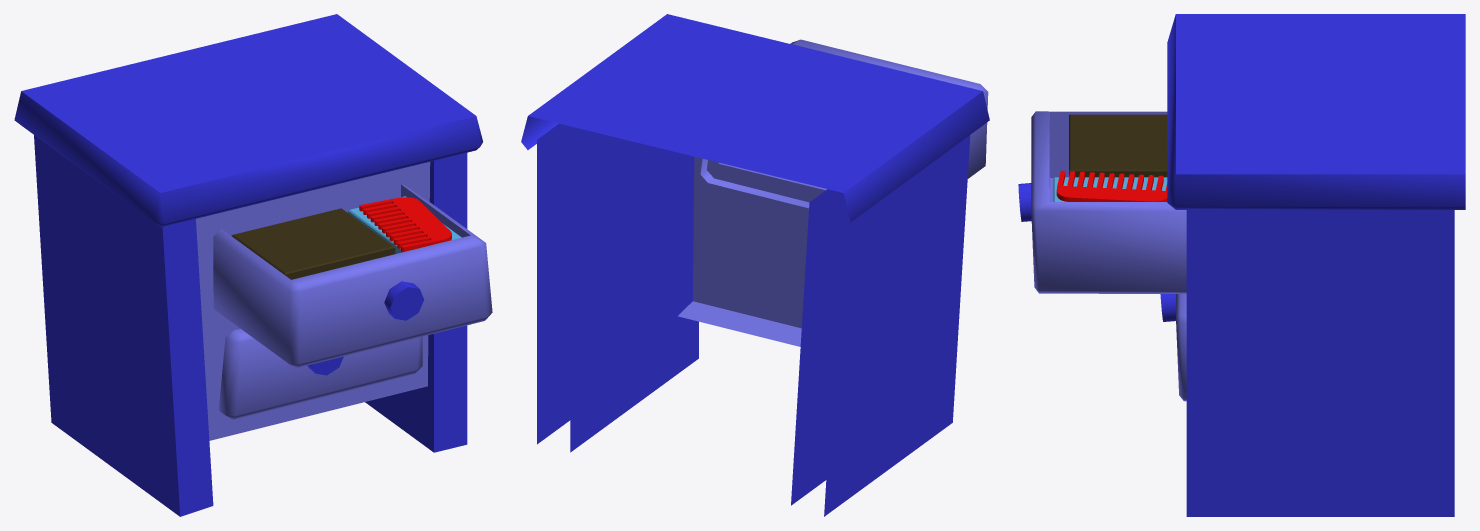
The model's file is BedsideTableOpen.FBX.
The picture shows the model from 3 angles, left to right: view 1: azimuth 30°, elevation 25°; view 2: azimuth 150°, elevation 25°; view 3: azimuth 270°, elevation 25°; orthographic projection. The views are drawn at different scales.
Visible parts, largest first — view 1: BedsideTableOpen; view 2: BedsideTableOpen; view 3: BedsideTableOpen.
Boxes of the visible parts, box(x1,y1,x2,y2) form: BedsideTableOpen: box(14, 14, 492, 516); BedsideTableOpen: box(521, 14, 989, 516); BedsideTableOpen: box(1018, 14, 1465, 516).
Bounding box in the file's own units: 2.89 × 2.8 × 3.27.
